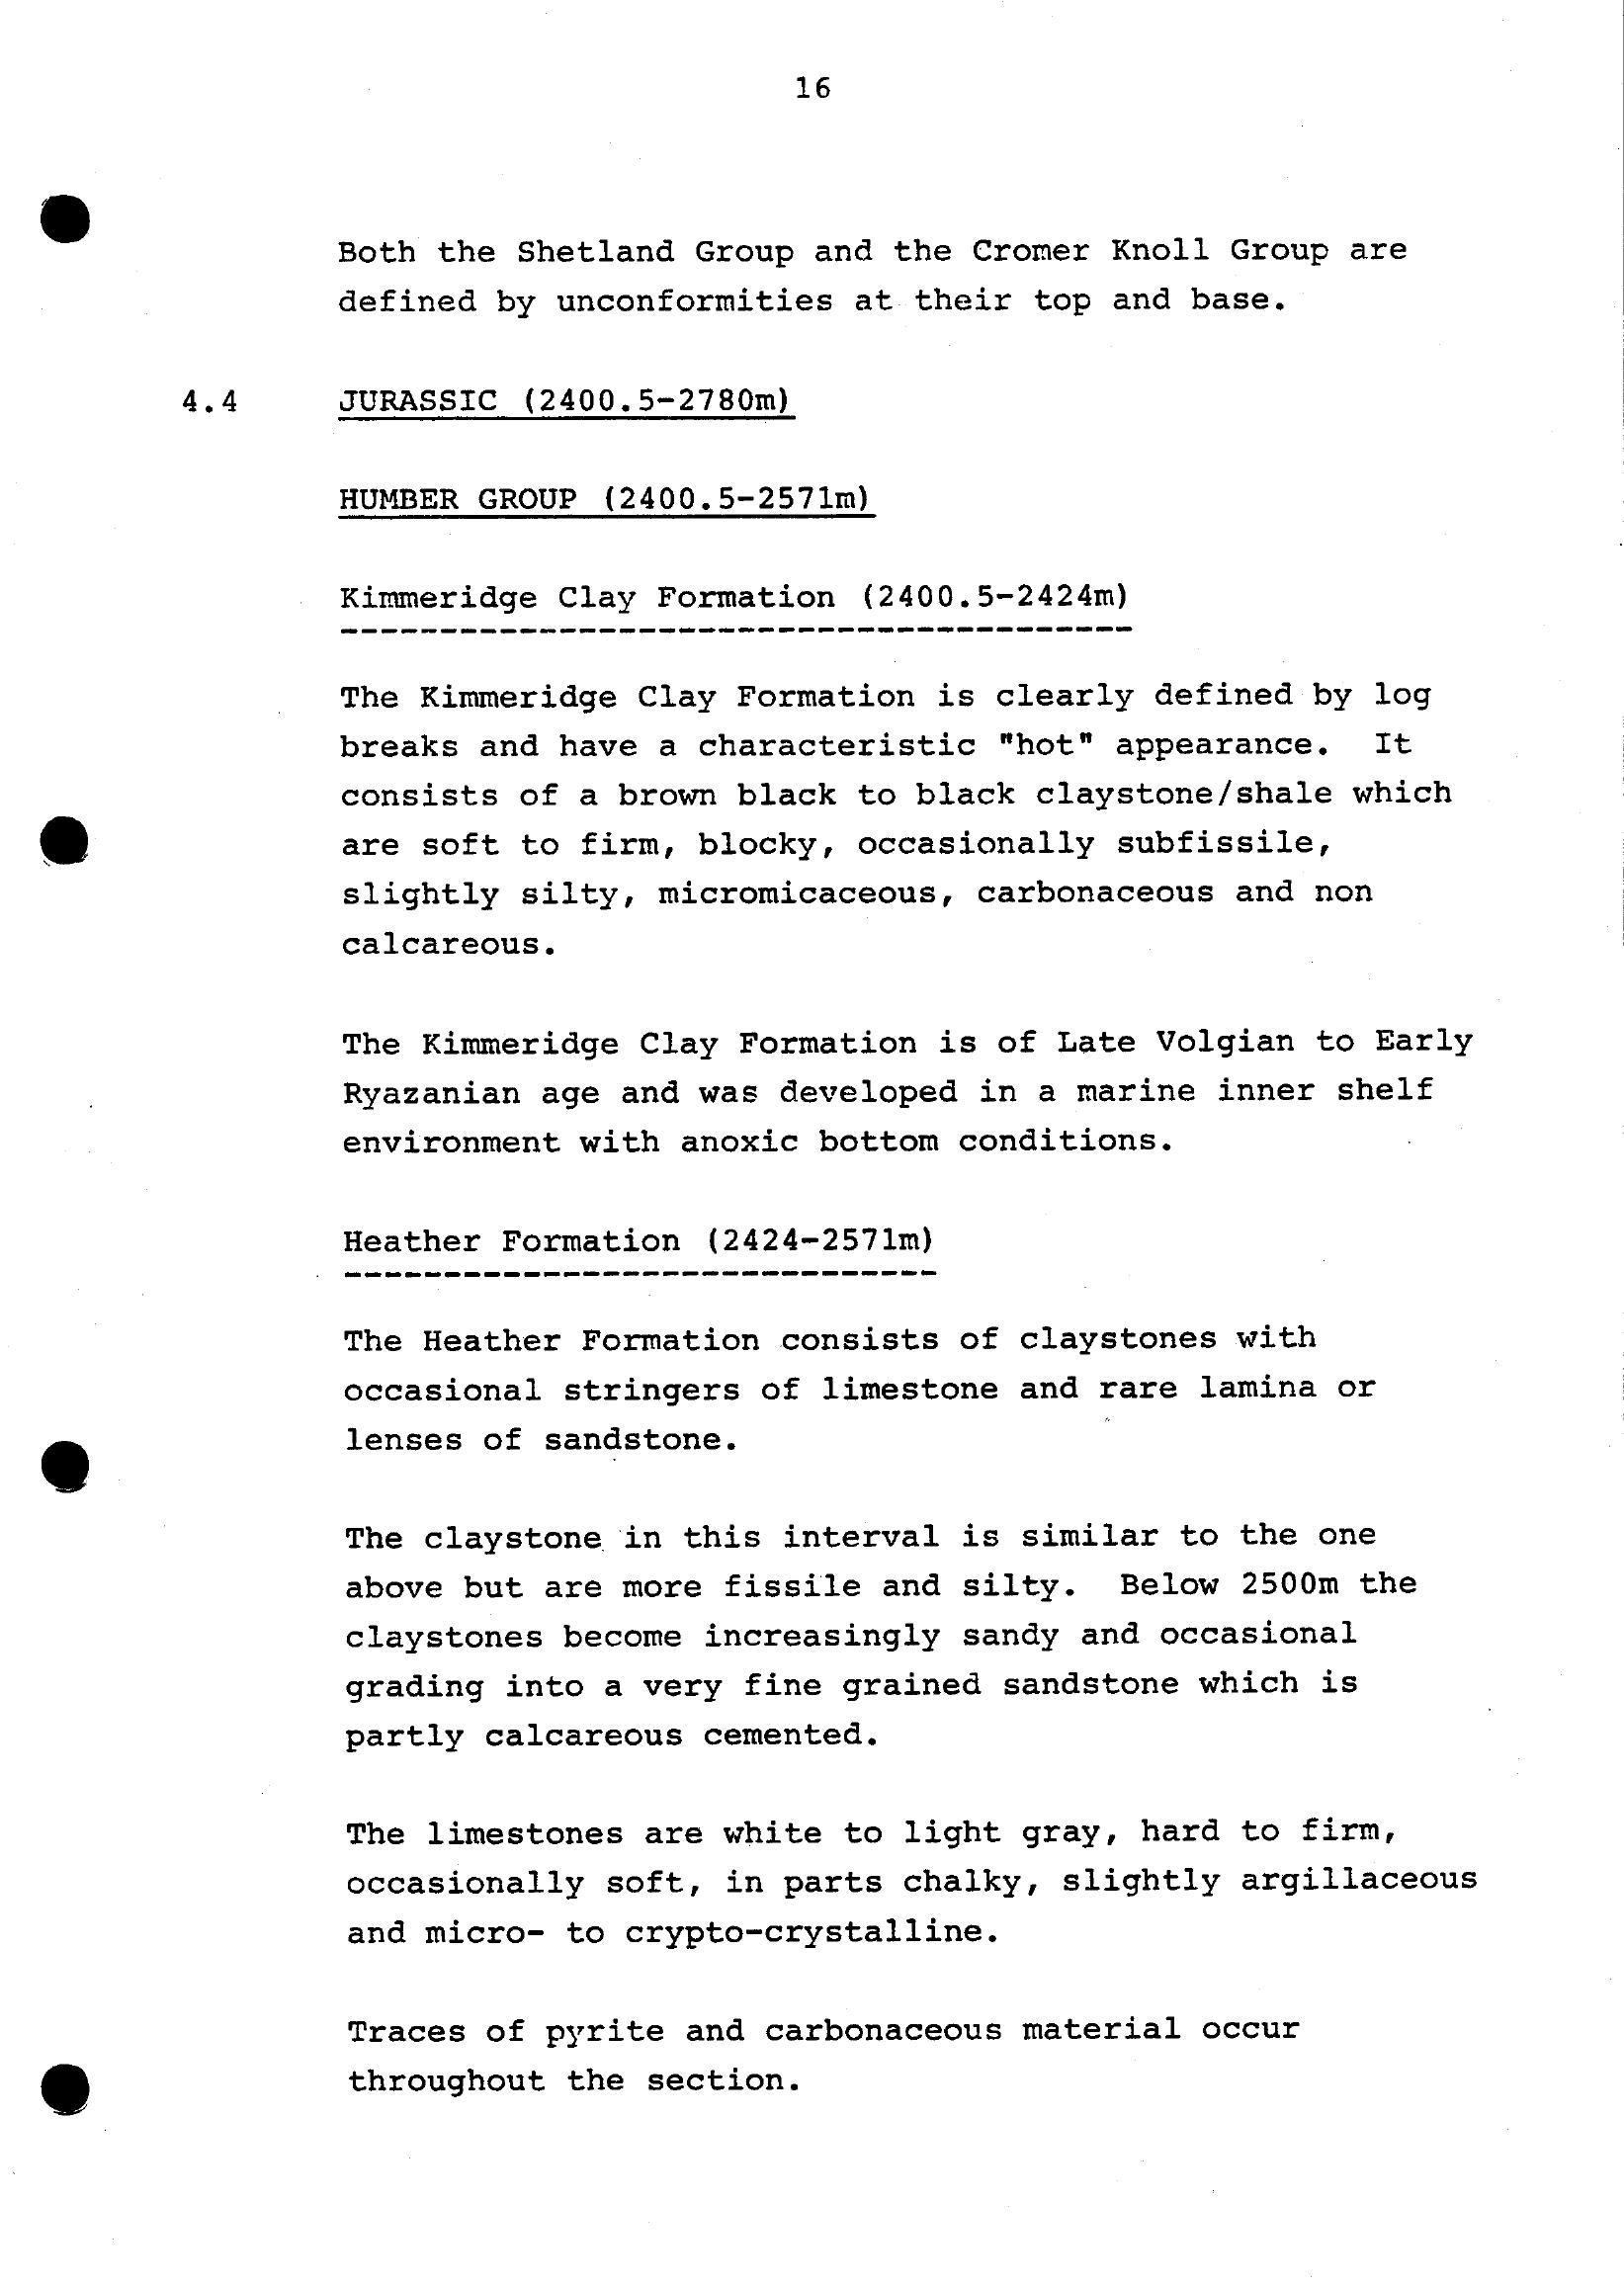text: (278, 185, 1536, 2179)
